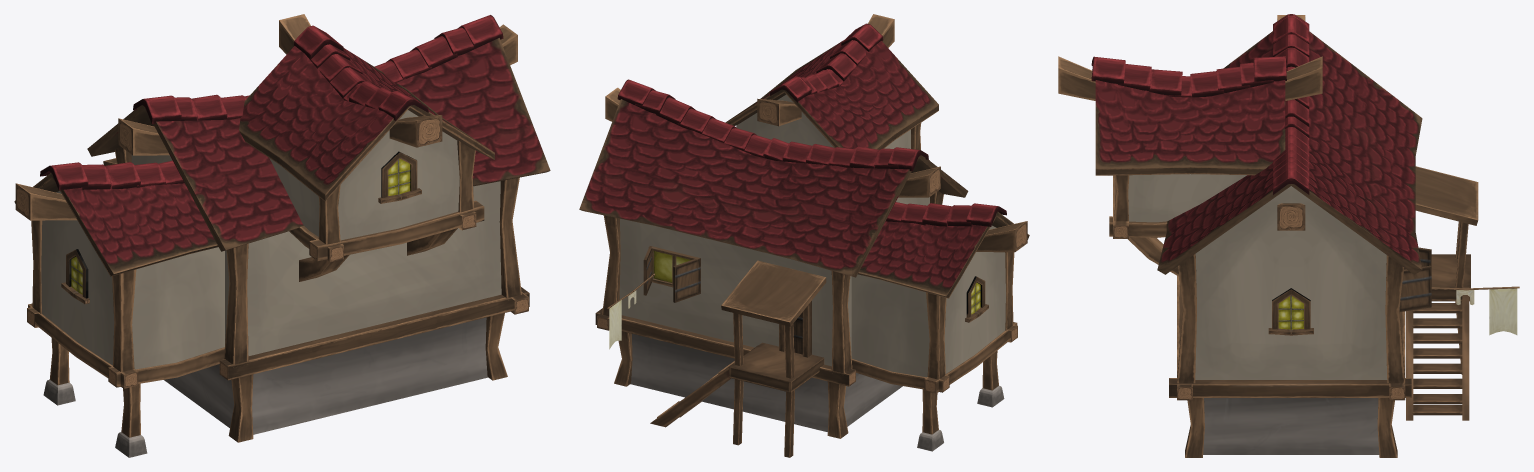
File: Casa_2.FBX
The picture shows the model from 3 angles, left to right: view 1: azimuth 30°, elevation 25°; view 2: azimuth 150°, elevation 25°; view 3: azimuth 270°, elevation 25°; orthographic projection. The views are drawn at different scales.
Parts seen in each view (by area): view 1: Object071; view 2: Object071; view 3: Object071.
Boxes of the visible parts, x1,y1,x2,y2 form: Object071: [14, 14, 550, 457]; Object071: [579, 14, 1029, 457]; Object071: [1058, 14, 1519, 457].
Size of the model in its own units: 18.58 by 12.68 by 15.88.
